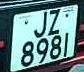1: (62, 31, 72, 59)
8: (19, 38, 36, 68), (49, 35, 63, 60)
9: (34, 37, 50, 64)
J: (33, 10, 49, 40)
Z: (47, 7, 62, 37)
